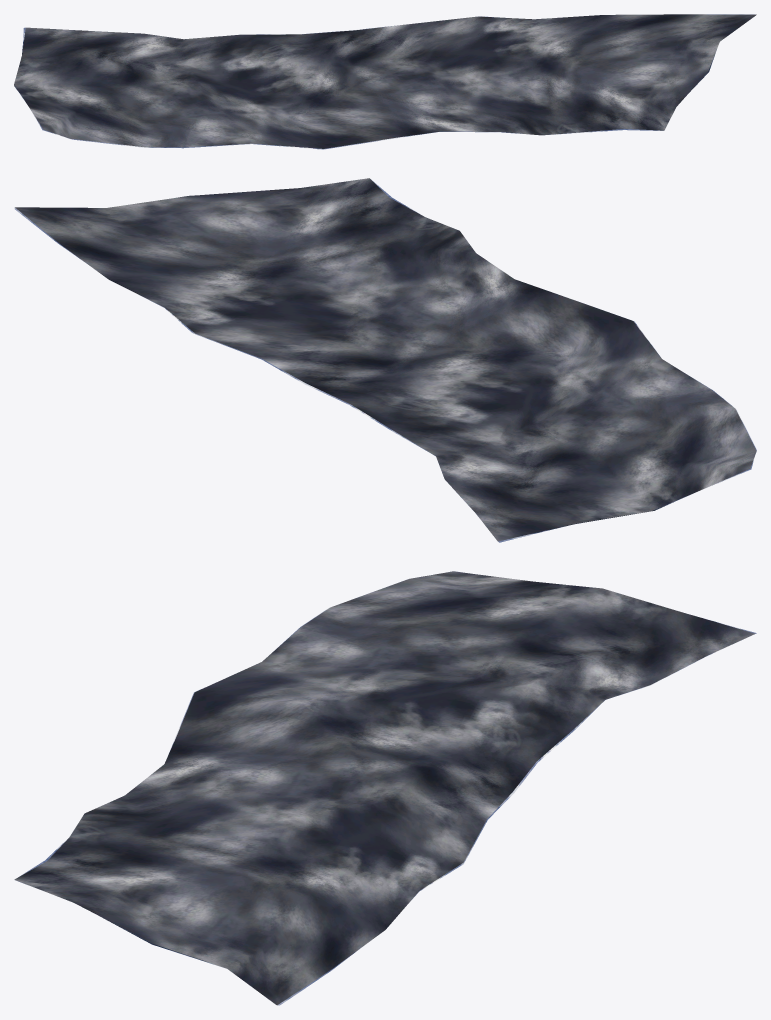
File: HTOWN01_WATER06.fbx
The picture shows the model from 3 angles, top to bottom: view 1: azimuth 30°, elevation 25°; view 2: azimuth 150°, elevation 25°; view 3: azimuth 270°, elevation 25°; orthographic projection. The views are drawn at different scales.
Parts seen in each view (by area): view 1: HTOWN01_WATER06; view 2: HTOWN01_WATER06; view 3: HTOWN01_WATER06.
Boxes of the visible parts, left/top/right/bottom form: HTOWN01_WATER06: left=14, top=14, right=756, bottom=149; HTOWN01_WATER06: left=14, top=178, right=756, bottom=542; HTOWN01_WATER06: left=14, top=571, right=756, bottom=1005.
Size of the model in its own units: 396910 by 3199 by 283895.
Materials: 2 (2 with a texture image).
